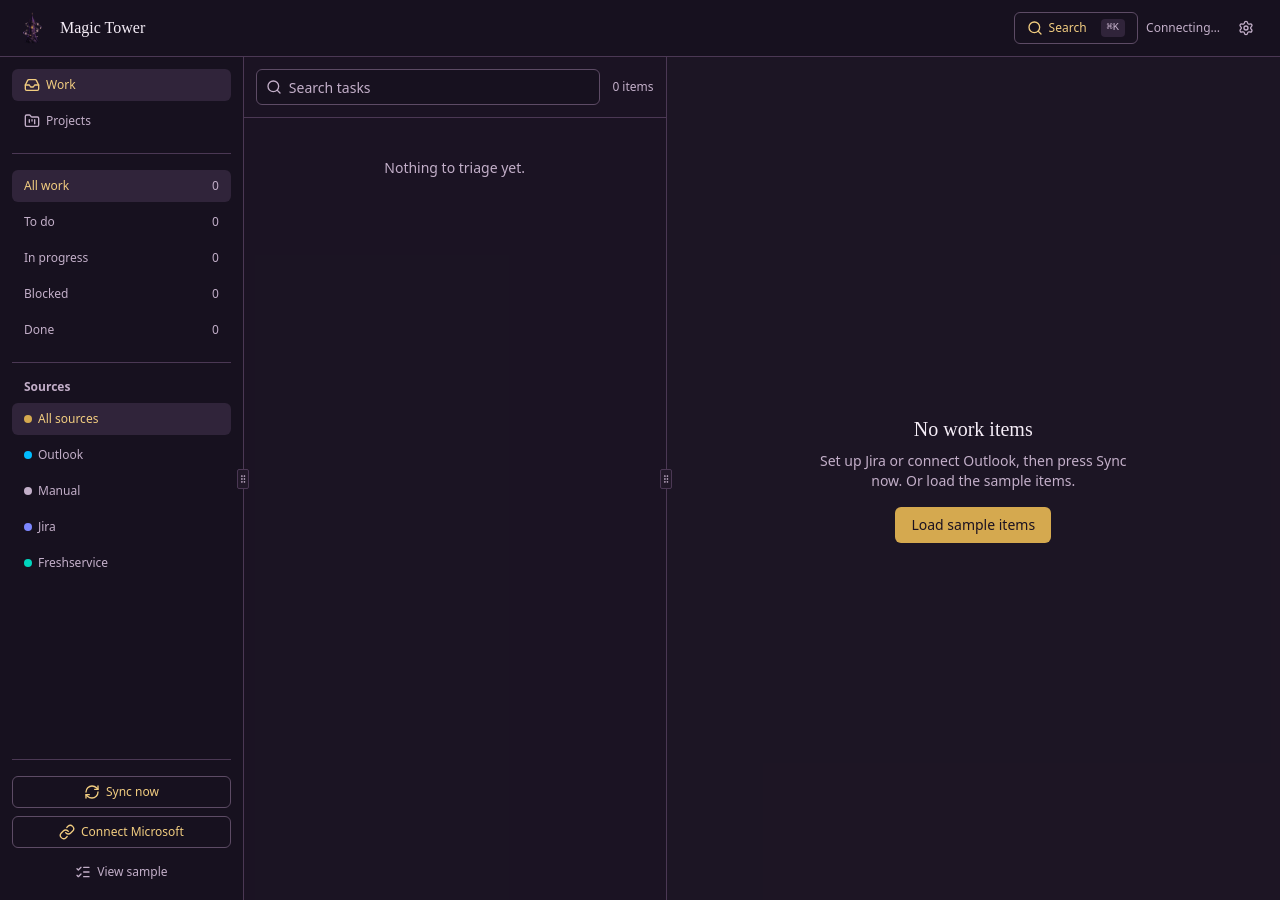
Test: Projects view › projects view lists codes, statuses, counts and PR links
Click the button "Projects": {"x": 121, "y": 121} [12,105,231,137]
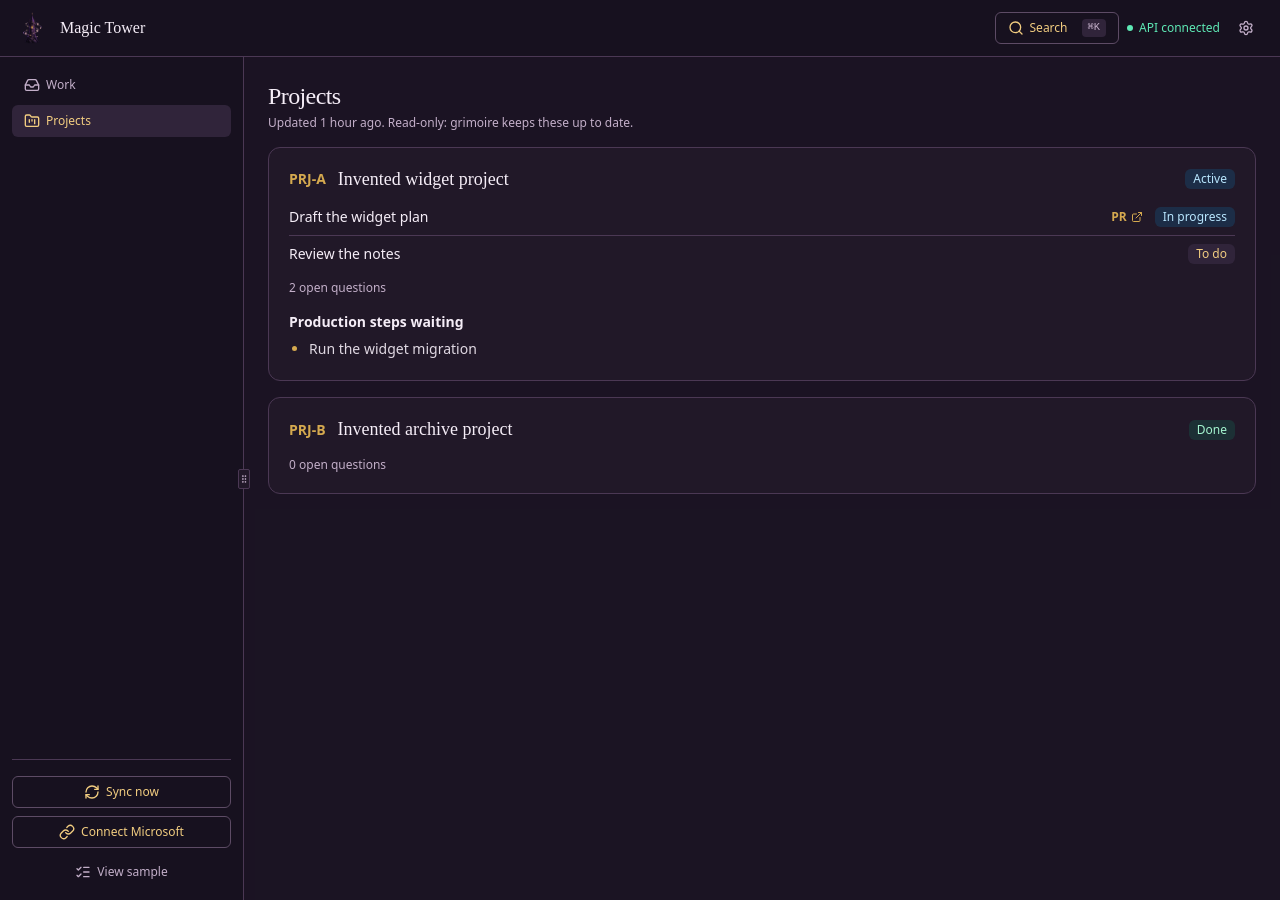
Check: the text "PRJ-A" is shown, box [289,169,326,189]
Check: the heading "Invented widget project" is shown, box [338,168,509,190]
Check: the text "Active" is shown, box [1185,169,1235,189]
